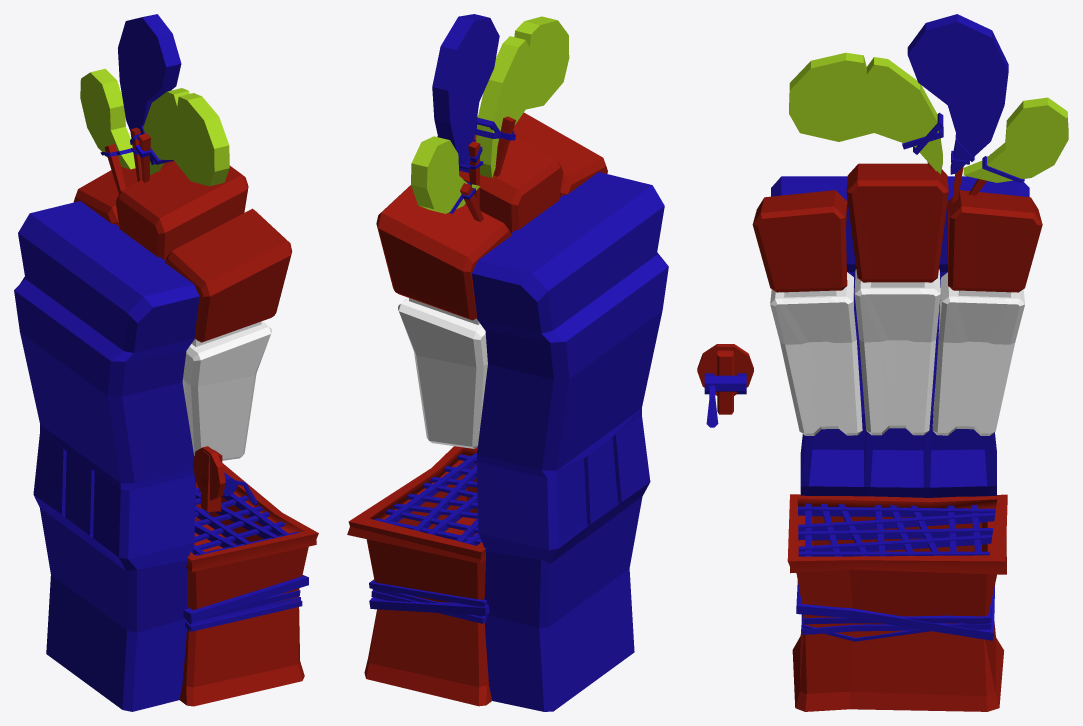
The model's file is SM_SlushStation.fbx.
3 views of the same model, side by side, from view 1: azimuth 30°, elevation 25°; view 2: azimuth 150°, elevation 25°; view 3: azimuth 270°, elevation 25° (orthographic). The views are drawn at different scales.
Parts seen in each view (by area): view 1: SM_DrinkStation, SM_SlushRobinet; view 2: SM_DrinkStation; view 3: SM_DrinkStation, SM_SlushRobinet, SM_SlushHandle.
Boxes of the visible parts, <box> form: SM_DrinkStation: <box>14,14,318,711</box>; SM_SlushRobinet: <box>193,446,225,511</box>; SM_DrinkStation: <box>347,14,668,711</box>; SM_DrinkStation: <box>752,14,1068,711</box>; SM_SlushRobinet: <box>697,344,753,414</box>; SM_SlushHandle: <box>704,373,746,427</box>.
Size of the model in its own units: 1.35 by 3.95 by 2.04.
